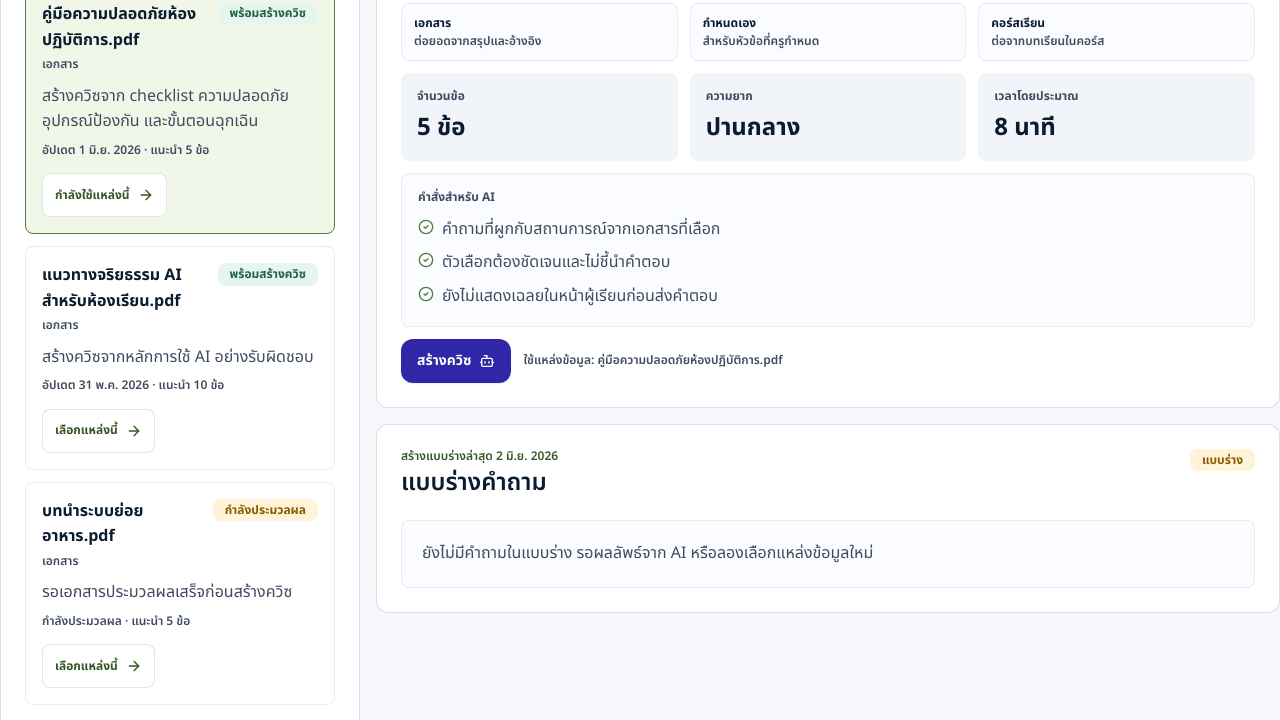
Test: AiQuizGeneratorPage › generates a quiz draft from the selected document through the BFF without exposing answer keys
(page scrolled)
Click the button "สร้างควิซ" at (456, 360), box [401,338,512,382]
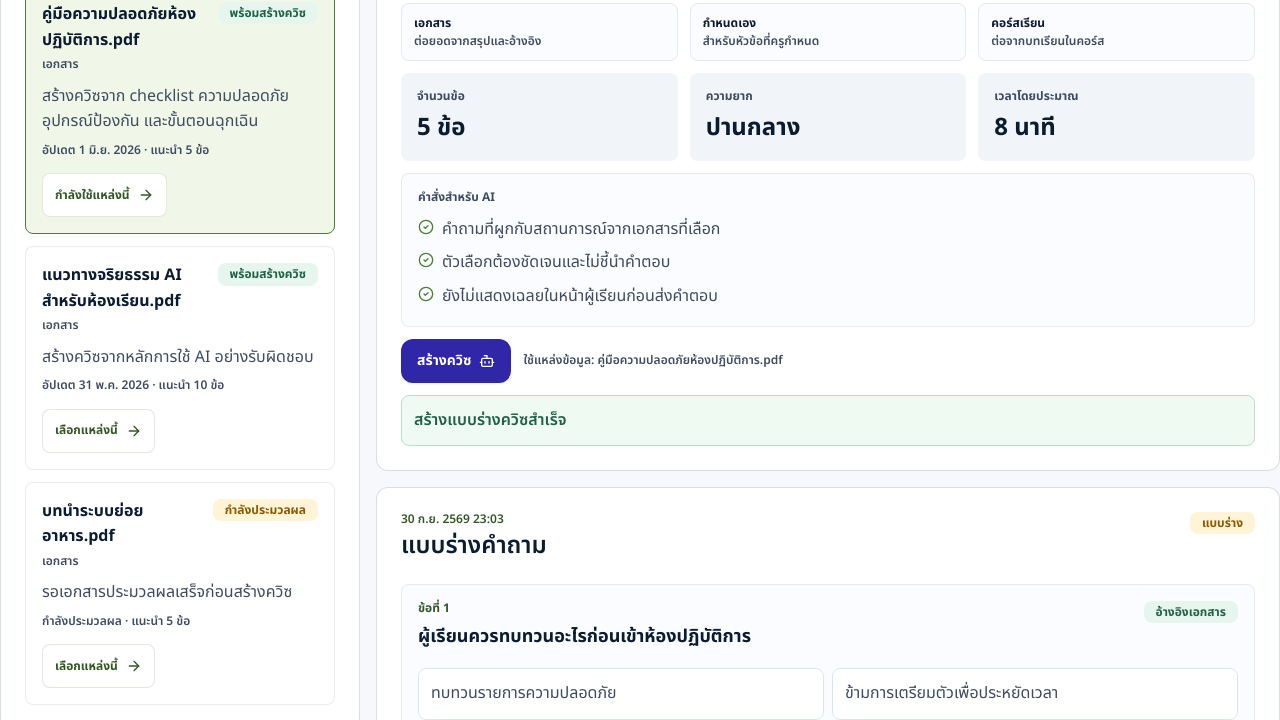
expect the heading "ผู้เรียนควรทบทวนอะไรก่อนเข้าห้องปฏิบัติการ" is shown: met, box [418,624,751,652]
expect the message reads "สร้างแบบร่างควิซสำเร็จ": met, box [414,408,566,432]
